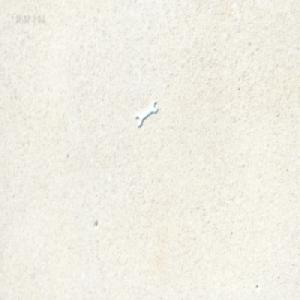Wrench: (134, 100, 157, 128)
